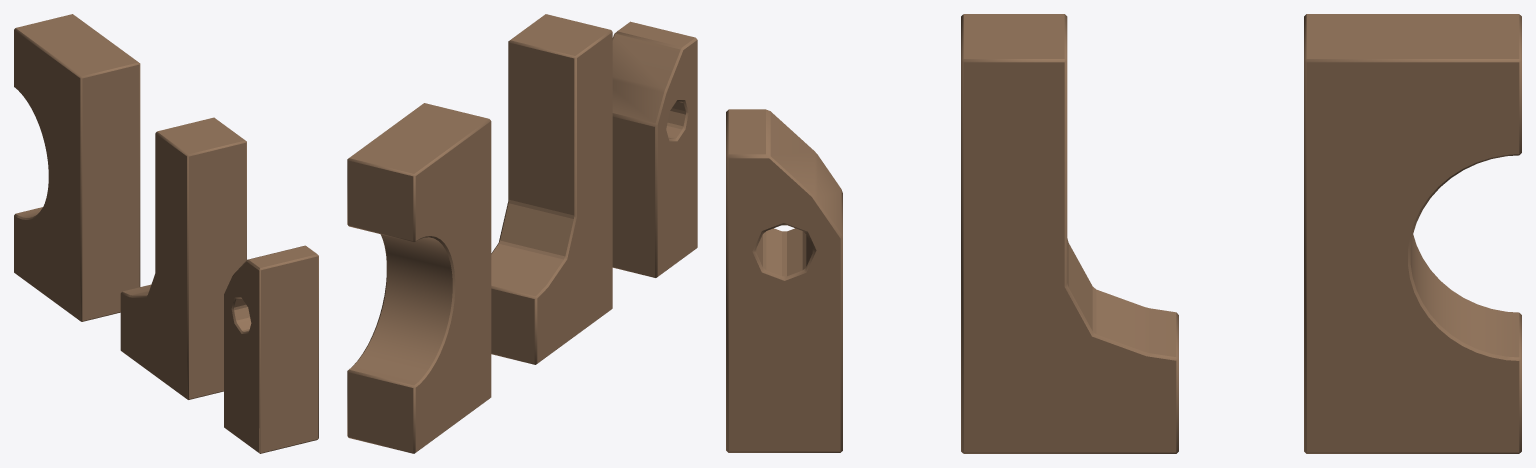
3 renders of one model, left to right at view 1: azimuth 30°, elevation 25°; view 2: azimuth 150°, elevation 25°; view 3: azimuth 270°, elevation 25°, orthographic. The views are drawn at different scales.
Visible parts, largest first — view 1: blocks; view 2: blocks; view 3: blocks.
Boxes of the visible parts, x1,y1,x2,y2 form: blocks: (14, 14, 318, 453); blocks: (347, 14, 697, 453); blocks: (726, 14, 1521, 453).
Bounding box in the file's own units: 0.0214 × 0.082 × 0.1497.
